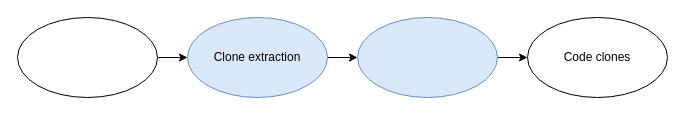
Image size: 685x115. Some labels were removed from this diagram. The shapes that lost their labels are listed below. From the top down, each one's centre as x and y in pixels, then its label:
At pixel 87 57: "Suffix array".
At pixel 427 57: "Source-mapping".
